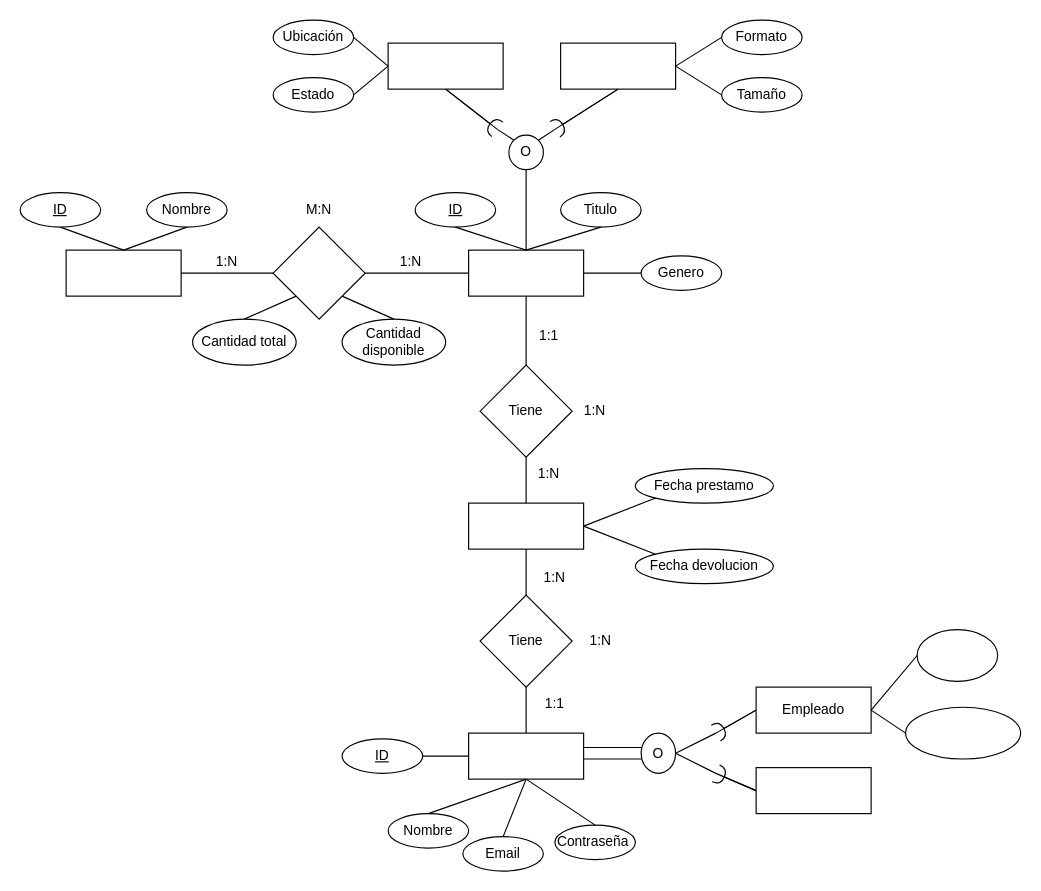
Image size: 1041x891. Some labels were removed from this diagram. The box of each missing label's shape, as (x1, y1, x2, y2) in pixels:
Autor: (65, 249, 181, 296)
Cliente: (755, 766, 871, 814)
Escribe: (272, 226, 365, 319)
Libro: (467, 249, 584, 296)
Libro digital: (559, 42, 676, 89)
Libro fisico: (387, 42, 503, 89)
Prestamo: (467, 502, 584, 549)
Salario: (916, 628, 998, 681)
Tiempo de trabajo: (904, 706, 1021, 759)
Usuario: (467, 732, 584, 779)
